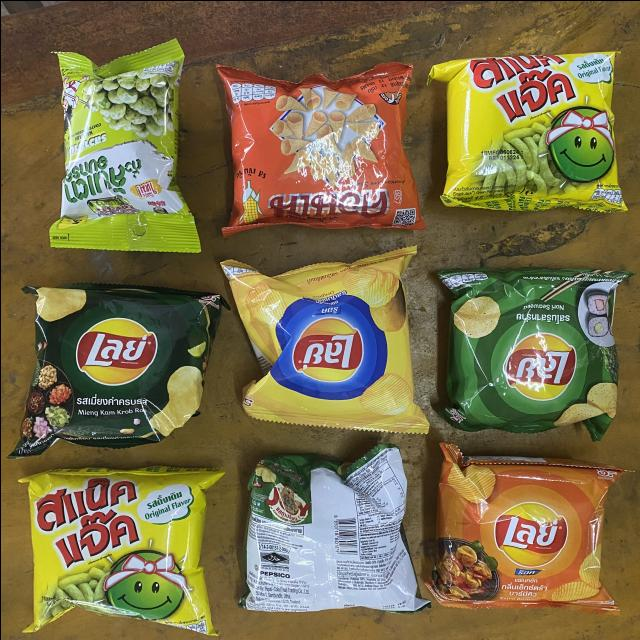plastik: (220, 245, 428, 433), (9, 283, 227, 457), (216, 61, 424, 236), (19, 466, 224, 634), (425, 443, 623, 613), (438, 267, 632, 440), (48, 40, 199, 253), (239, 443, 428, 613), (428, 51, 626, 212)
